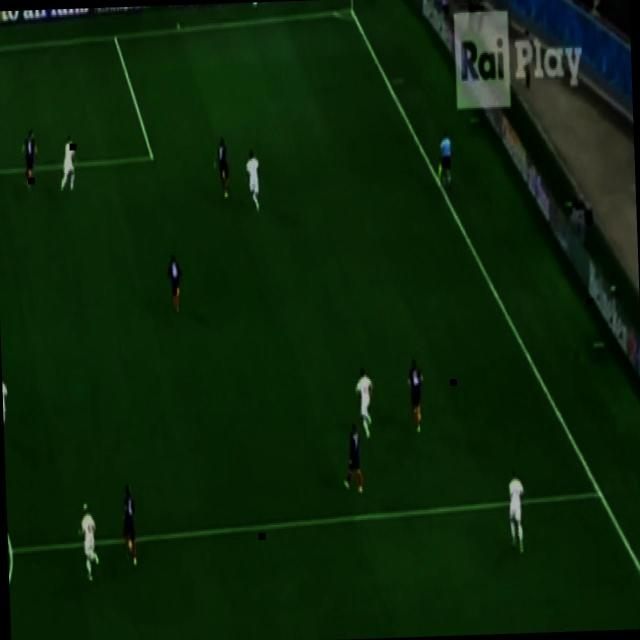player-white: (73, 498, 106, 590), (503, 466, 529, 560), (350, 357, 377, 445), (403, 354, 427, 442), (118, 478, 140, 574), (340, 421, 367, 495), (242, 143, 264, 218), (210, 130, 232, 204), (20, 124, 42, 192), (56, 130, 78, 198), (165, 248, 185, 322), (436, 125, 455, 198), (2, 364, 10, 442)
